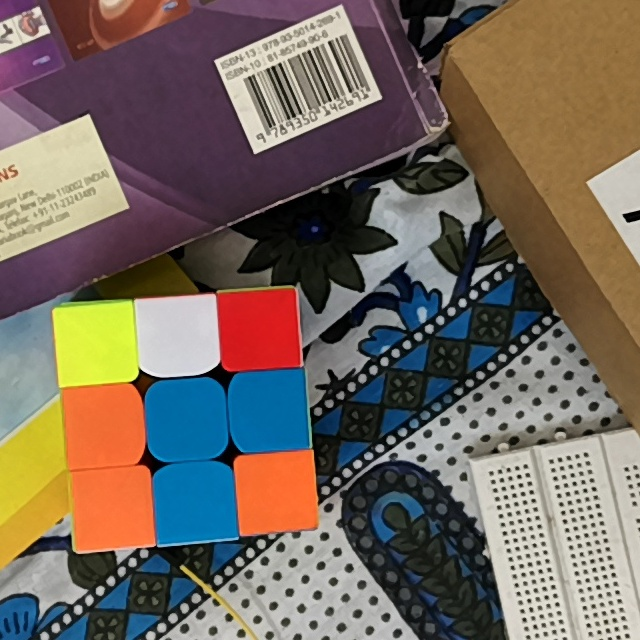tile: (78, 475, 147, 544), (235, 378, 303, 447), (226, 294, 294, 362), (68, 391, 136, 459), (153, 387, 221, 454), (242, 459, 311, 523), (160, 470, 228, 534), (144, 302, 213, 365), (64, 311, 129, 375)
